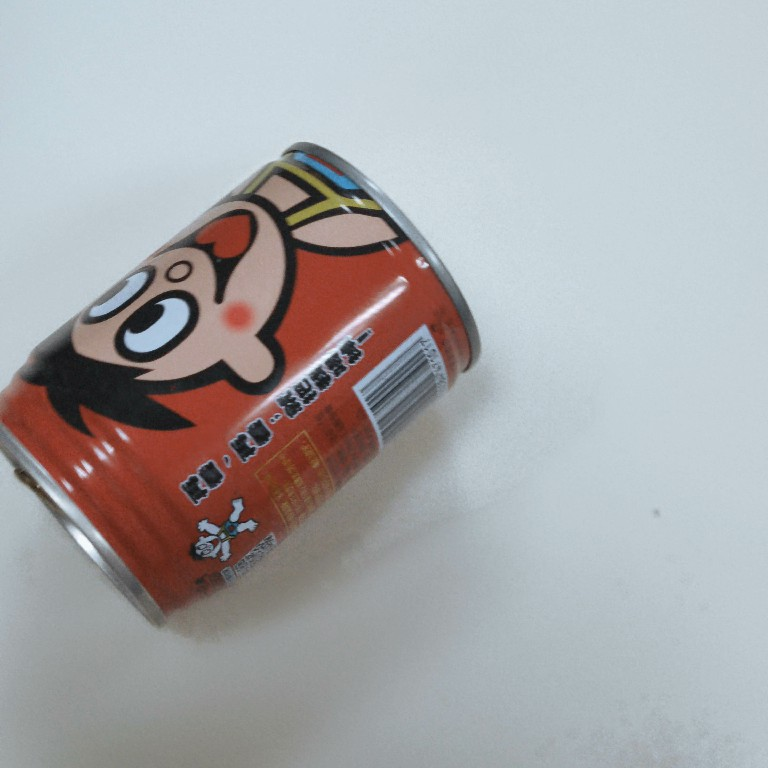can: (1, 137, 486, 634)
